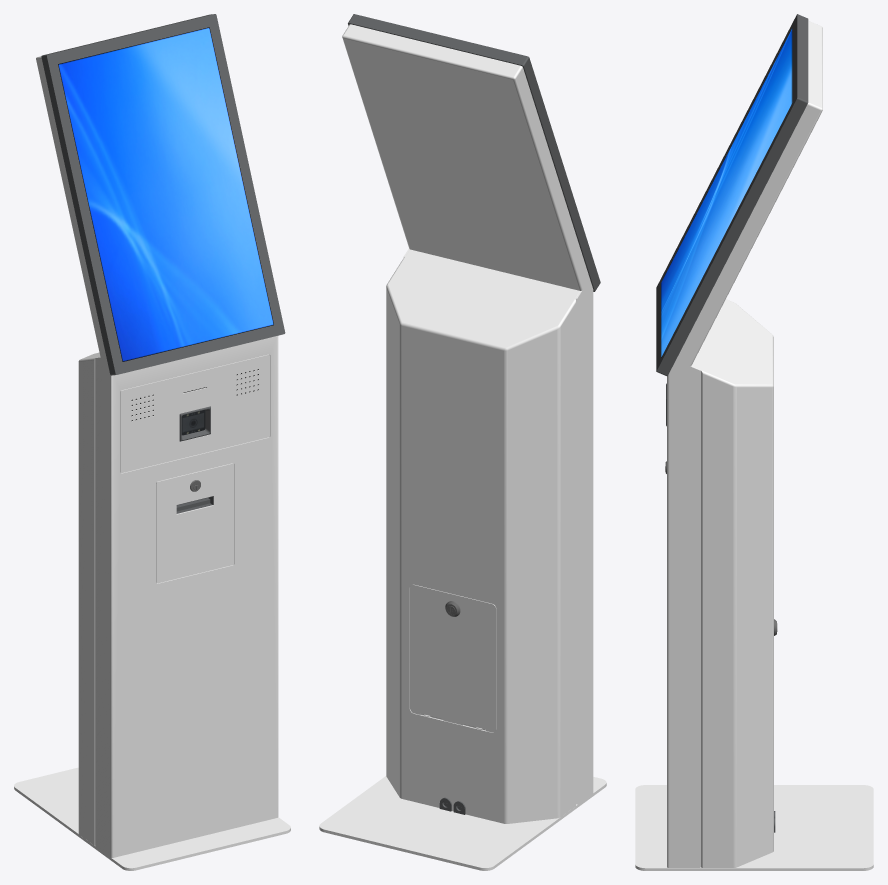
3 views of the same model, side by side, from view 1: azimuth 30°, elevation 25°; view 2: azimuth 150°, elevation 25°; view 3: azimuth 270°, elevation 25° (orthographic). The views are drawn at different scales.
Parts seen in each view (by area): view 1: Korpus_vorn, Display, Monitor, Frontblende_oben, Korpus_hinten, Druckerblende, Bodenplatte; view 2: Korpus_hinten, Korpus_vorn, TÃ¼r_hinten, Bodenplatte, Monitor; view 3: Korpus_hinten, Korpus_vorn, Bodenplatte, Display, Monitor.
Boxes of the visible parts, x1,y1,x2,y2 form: Korpus_vorn: (36,56,278,857); Display: (58,27,273,361); Monitor: (41,14,285,375); Frontblende_oben: (120,354,269,473); Korpus_hinten: (78,352,100,845); Druckerblende: (156,463,233,583); Bodenplatte: (14,767,290,870); Korpus_hinten: (386,249,579,823); Korpus_vorn: (342,24,593,804); TÃ¼r_hinten: (410,584,496,732); Bodenplatte: (319,776,606,870); Monitor: (348,14,600,291); Korpus_hinten: (691,299,773,867); Korpus_vorn: (667,21,822,867); Bodenplatte: (635,785,873,870); Display: (661,28,792,357); Monitor: (656,14,808,376).
Size of the model in its own units: 2.41 by 10.29 by 2.88.
7 materials, 2 textured.
